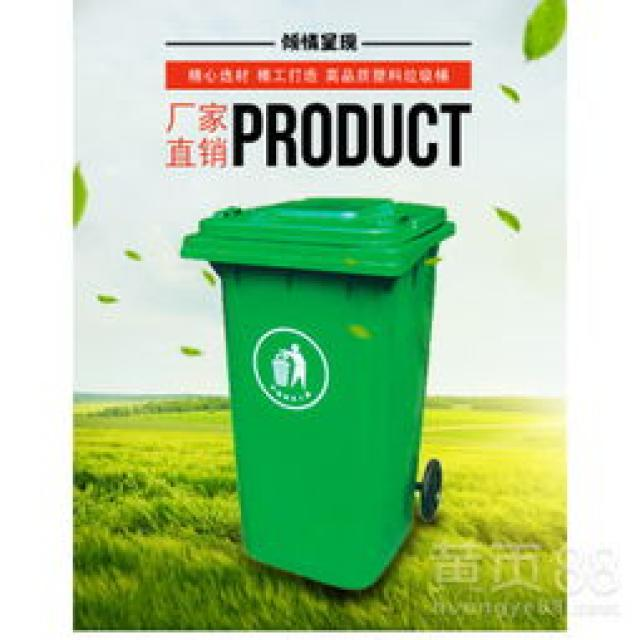garbage_bin: (176, 191, 454, 587)
